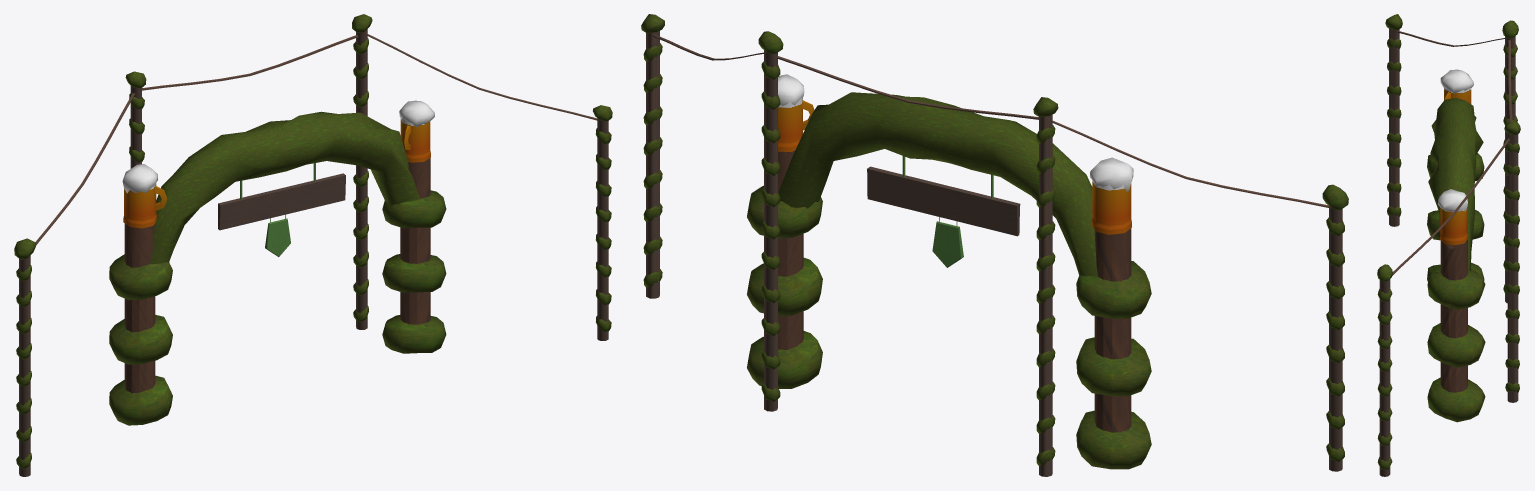
Rendered from Entrada.obj.
The picture shows the model from 3 angles, left to right: view 1: azimuth 30°, elevation 25°; view 2: azimuth 150°, elevation 25°; view 3: azimuth 270°, elevation 25°; orthographic projection. The views are drawn at different scales.
Parts seen in each view (by area): view 1: model_9, model_23, model_17; view 2: model_9, model_23, model_17; view 3: model_9, model_23, model_17.
Boxes of the visible parts, box(x1,y1,x2,y2) form: model_9: box(14, 14, 612, 469); model_23: box(19, 29, 608, 476); model_17: box(122, 100, 434, 256); model_9: box(641, 14, 1348, 469); model_23: box(646, 31, 1342, 476); model_17: box(778, 74, 1133, 267); model_9: box(1377, 14, 1520, 469); model_23: box(1379, 28, 1518, 476); model_17: box(1438, 69, 1473, 245).
Bounding box in the file's own units: 93.36 × 47.9 × 22.08.
